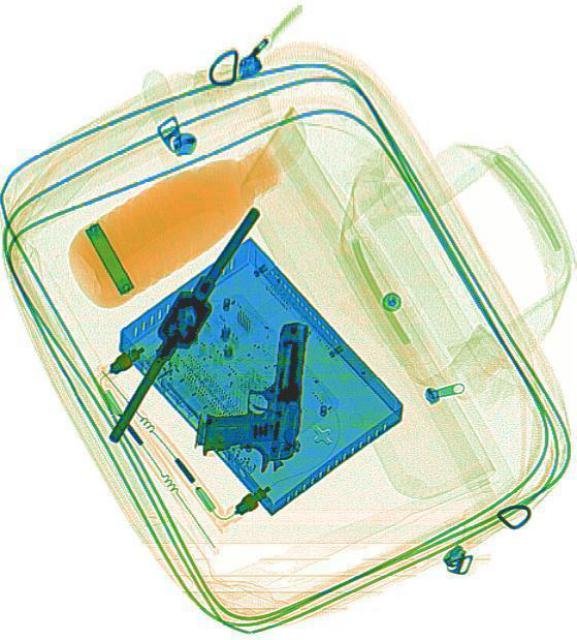Gun: (192, 313, 305, 475)
